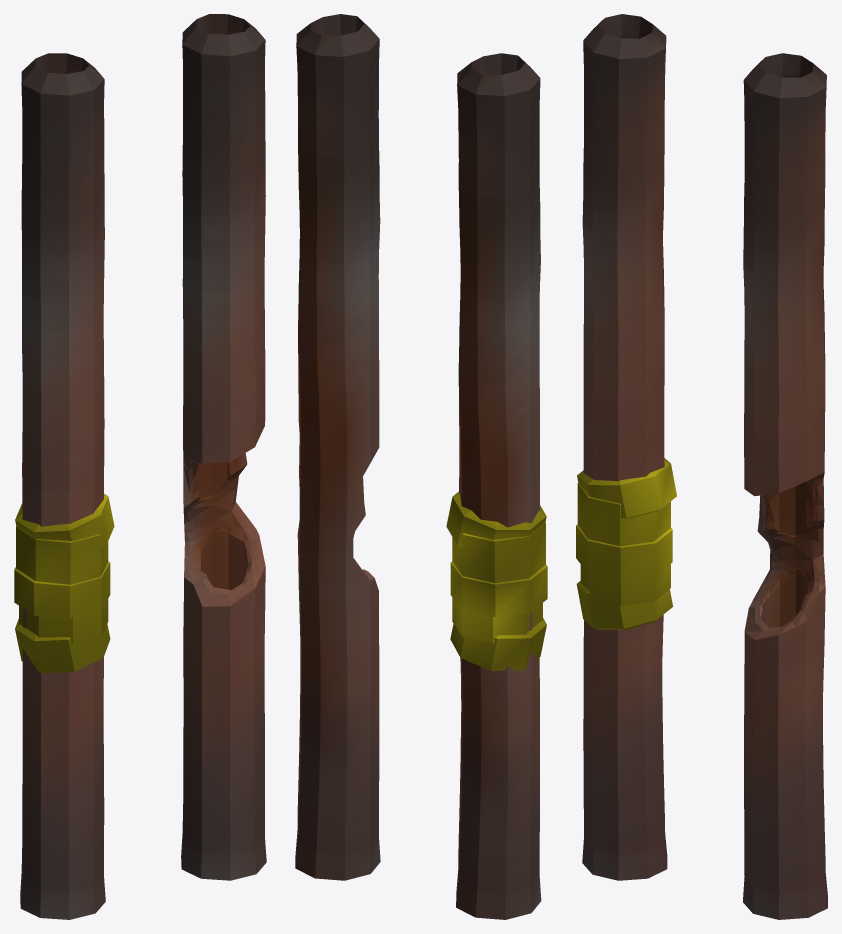
The model's file is Tuyau rafistolé.fbx.
The picture shows the model from 3 angles, left to right: view 1: azimuth 30°, elevation 25°; view 2: azimuth 150°, elevation 25°; view 3: azimuth 330°, elevation 25°; orthographic projection.
Parts seen in each view (by area): view 1: Cylindre 2, Cylindre, Tore; view 2: Cylindre 2, Cylindre, Tore; view 3: Cylindre 2, Cylindre, Tore.
Part boxes in pixels (x1,y1,x2,y2): Cylindre 2: (181, 14, 266, 880); Cylindre: (20, 53, 105, 919); Tore: (14, 493, 114, 673); Cylindre 2: (295, 14, 380, 880); Cylindre: (456, 53, 541, 919); Tore: (446, 491, 547, 670); Cylindre 2: (743, 53, 827, 919); Cylindre: (582, 14, 667, 880); Tore: (576, 458, 676, 630).
Size of the model in its own units: 2.11 by 7.08 by 0.6956.
